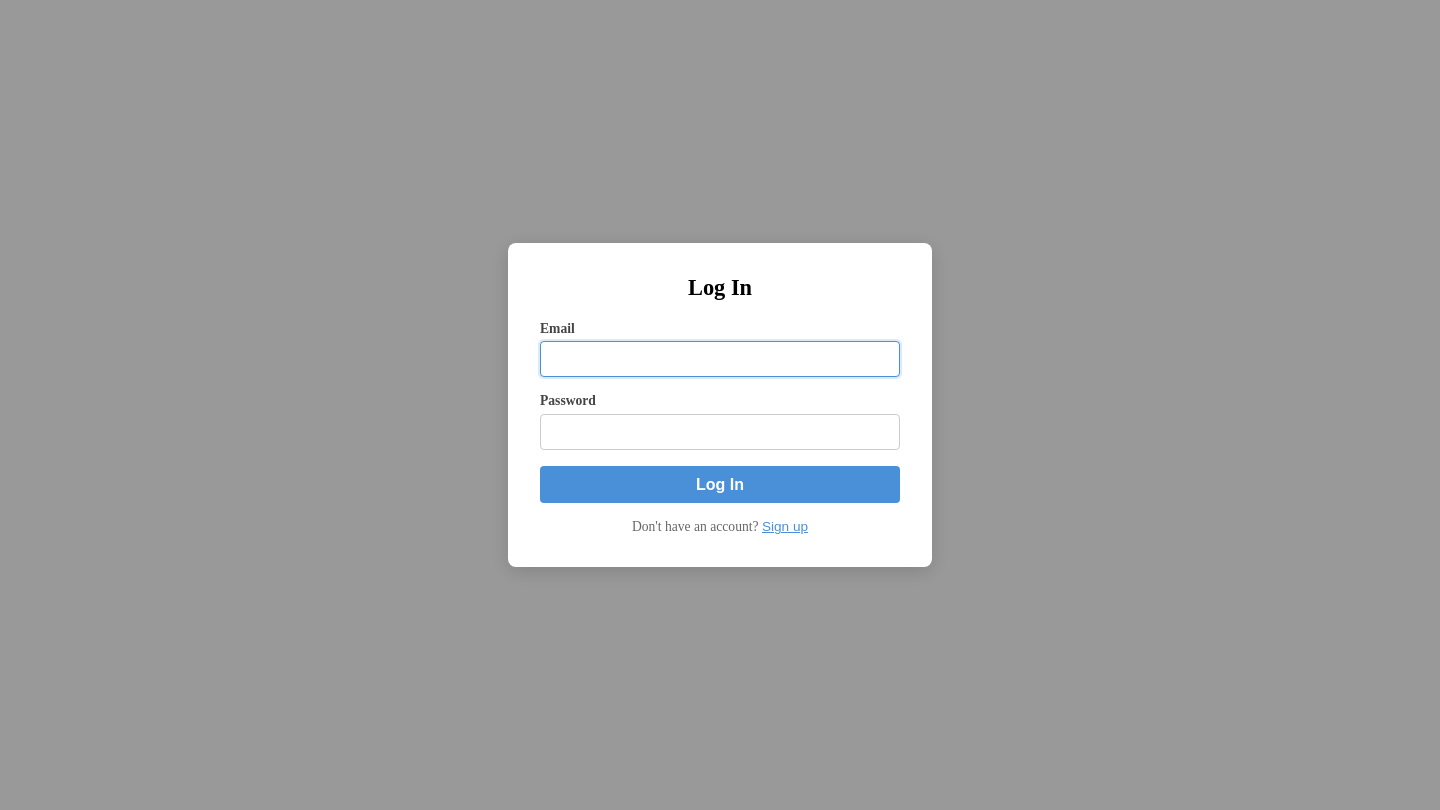
Test: AuthForm › switches back to login mode
This screenshot has width=1440, height=810.
Check: the heading "Log In" is shown, box [688, 275, 752, 300]
Click the button "Sign up" at (785, 527), box [762, 519, 808, 534]
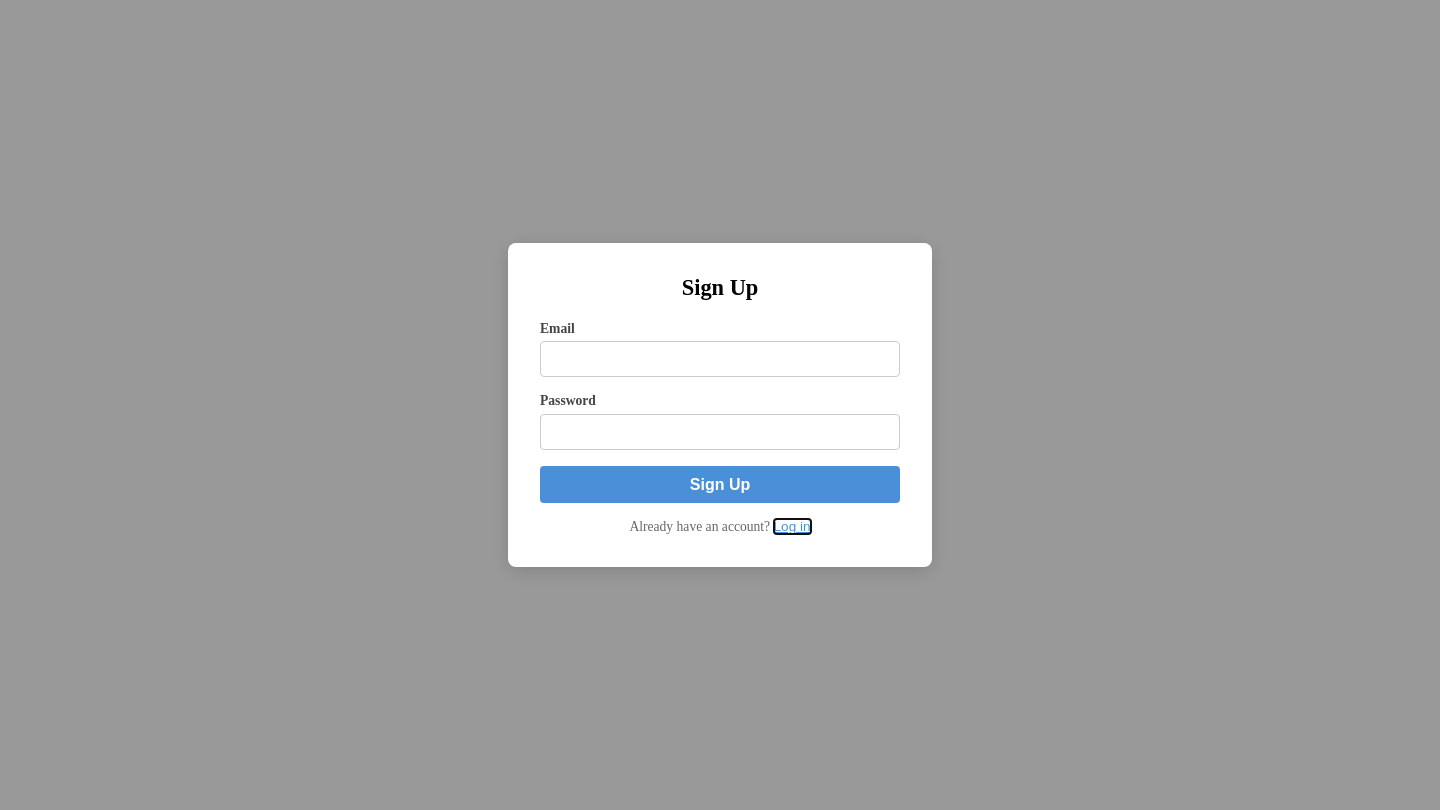
Click the button "Log in" at (792, 527), box [774, 519, 811, 534]
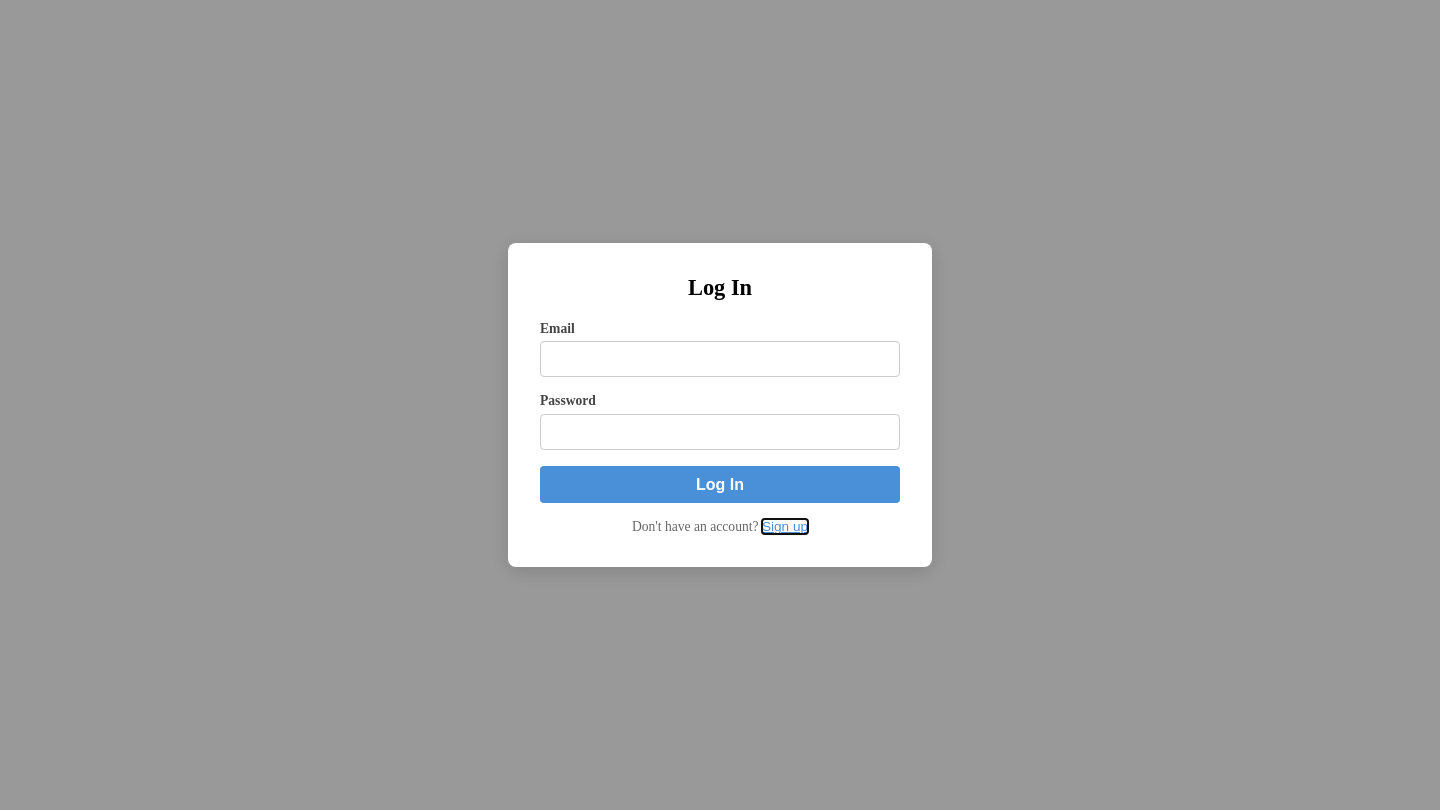
Check: the heading "Log In" is shown, box [688, 275, 752, 300]
